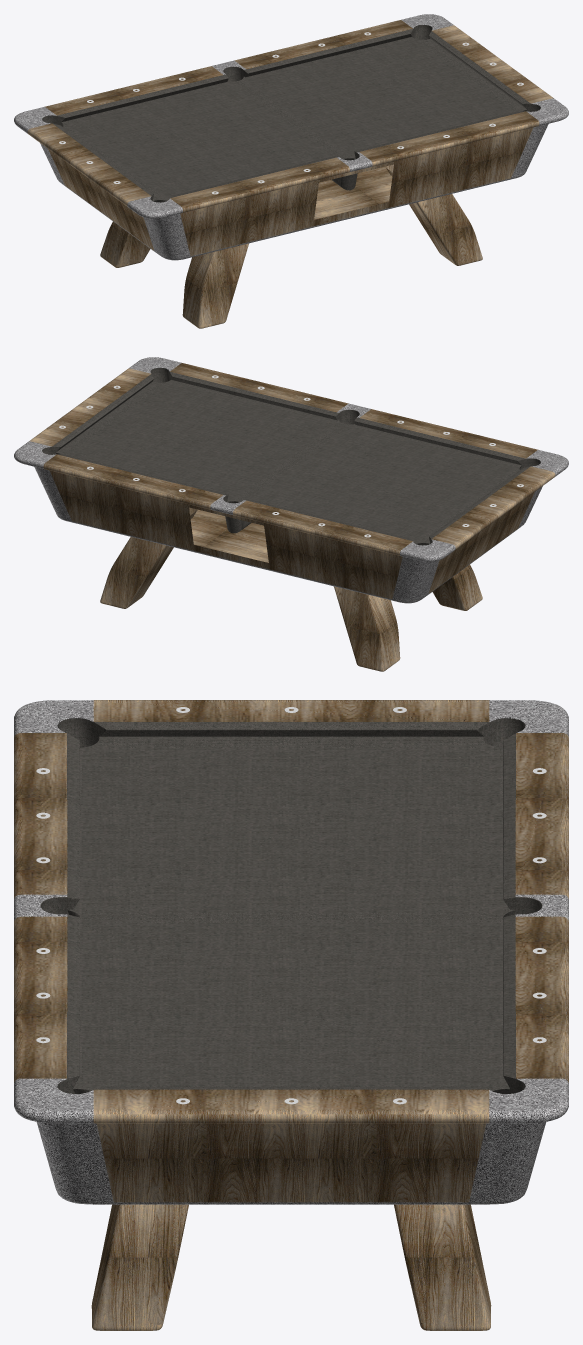
File: PoolTable.glb
3 views of the same model, one above another, from view 1: azimuth 30°, elevation 25°; view 2: azimuth 150°, elevation 25°; view 3: azimuth 270°, elevation 25° (orthographic). The views are drawn at different scales.
Visible parts, largest first — view 1: PoolTable; view 2: PoolTable; view 3: PoolTable.
Boxes of the visible parts, left/top/right/bottom form: PoolTable: left=14, top=14, right=568, bottom=328; PoolTable: left=14, top=357, right=568, bottom=671; PoolTable: left=14, top=700, right=568, bottom=1330.
Size of the model in its own units: 29.61 by 9.58 by 16.72.
Materials: 4 (3 with a texture image).
